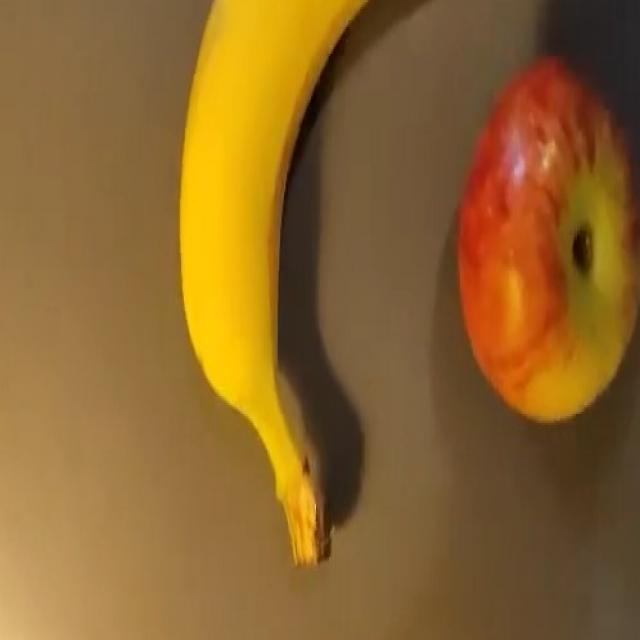Apple: (454, 54, 639, 424)
Banana: (178, 0, 384, 568)
